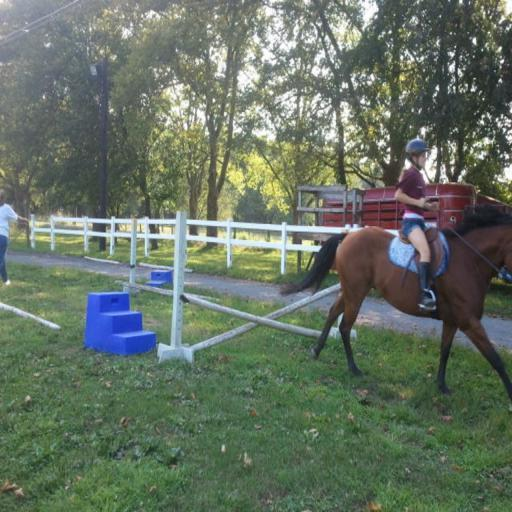horse: (280, 202, 512, 408)
